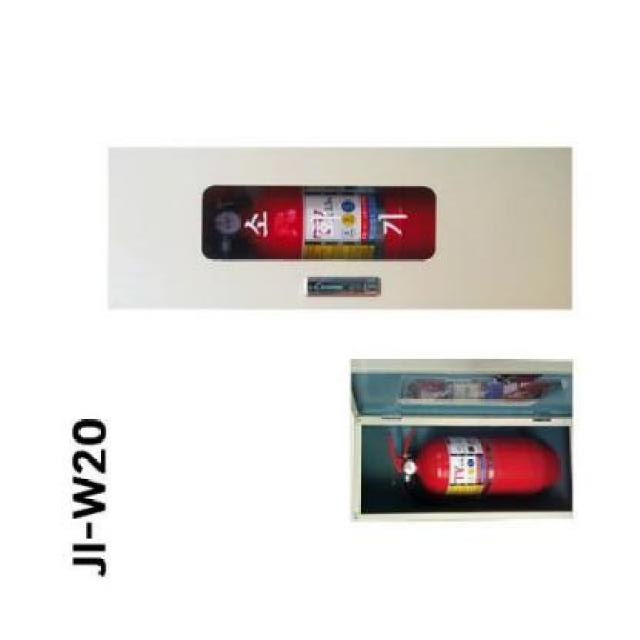fire extinguisher: (207, 185, 436, 261), (386, 428, 562, 495)
